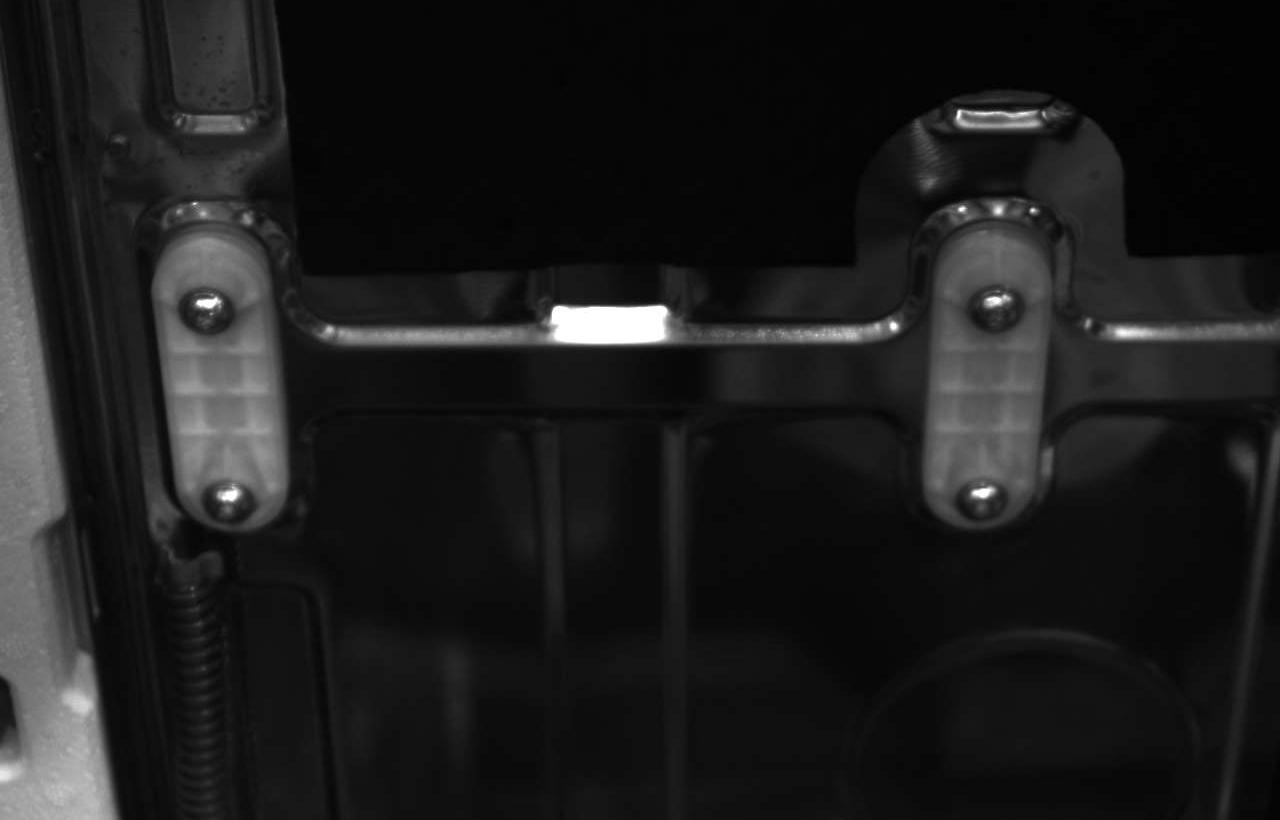vida-ok: (170, 278, 241, 345), (964, 279, 1031, 347), (950, 461, 1016, 529), (199, 474, 264, 532)
